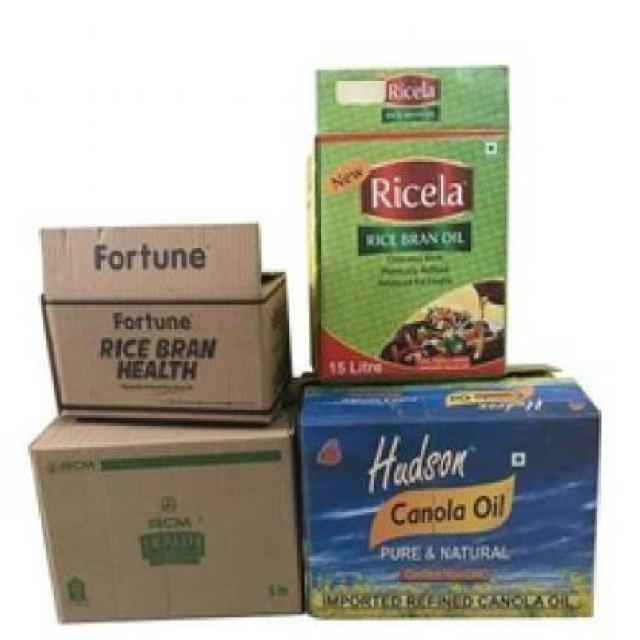box: (298, 46, 540, 382), (302, 392, 612, 632), (15, 400, 312, 637), (29, 217, 298, 429)
